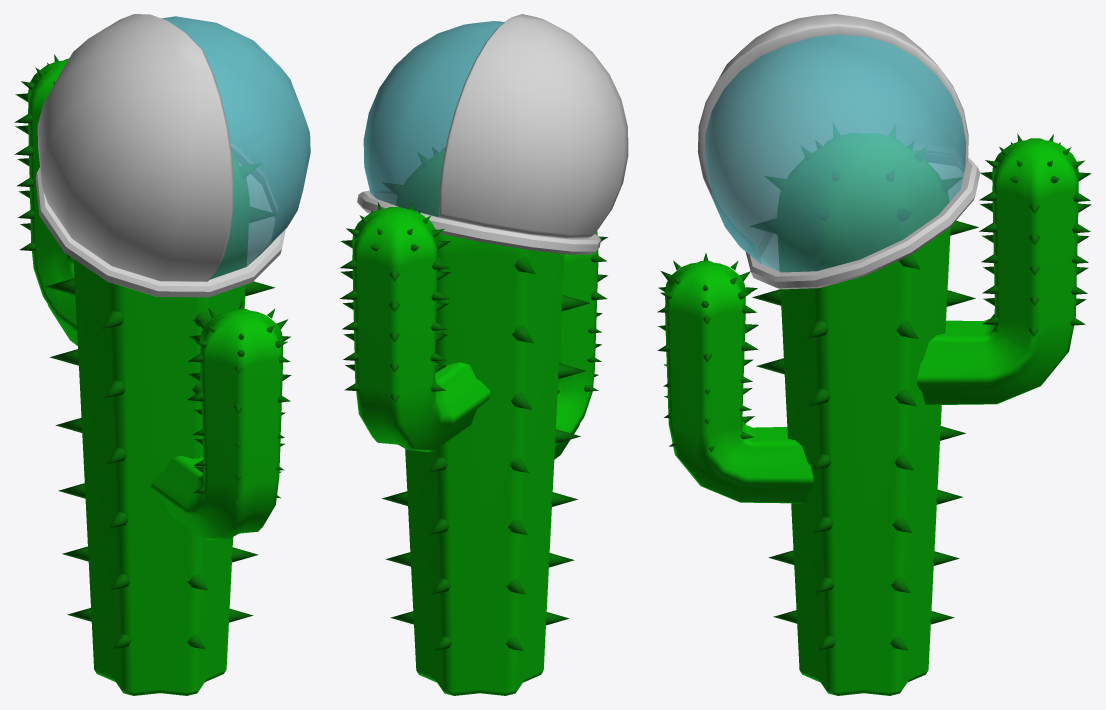
File: cactus low poly.fbx
3 views of the same model, side by side, from view 1: azimuth 30°, elevation 25°; view 2: azimuth 150°, elevation 25°; view 3: azimuth 270°, elevation 25° (orthographic). The views are drawn at different scales.
Parts seen in each view (by area): view 1: cactus_spines5_scactus_spine1, pSphere9; view 2: cactus_spines5_scactus_spine1, pSphere9; view 3: cactus_spines5_scactus_spine1, pSphere9.
Part boxes in pixels (left/top/right/bottom): cactus_spines5_scactus_spine1: left=14, top=54, right=291, bottom=695; pSphere9: left=35, top=14, right=310, bottom=297; cactus_spines5_scactus_spine1: left=340, top=147, right=607, bottom=695; pSphere9: left=357, top=14, right=628, bottom=254; cactus_spines5_scactus_spine1: left=657, top=124, right=1091, bottom=695; pSphere9: left=697, top=14, right=980, bottom=289.
Size of the model in its own units: 83.84 by 226 by 138.
